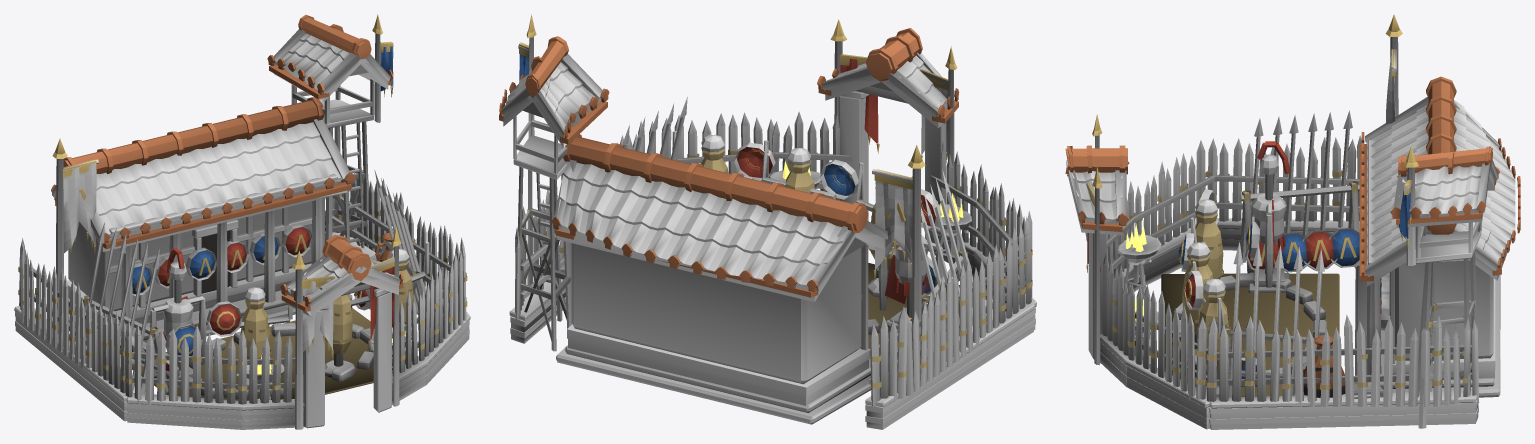
The model's file is spear-camp-l2.glb.
3 views of the same model, side by side, from view 1: azimuth 30°, elevation 25°; view 2: azimuth 150°, elevation 25°; view 3: azimuth 270°, elevation 25° (orthographic). The views are drawn at different scales.
Parts seen in each view (by area): view 1: spear-camp-l2; view 2: spear-camp-l2; view 3: spear-camp-l2.
Part boxes in pixels (left/top/right/bottom): spear-camp-l2: left=14, top=14, right=470, bottom=429; spear-camp-l2: left=499, top=14, right=1036, bottom=429; spear-camp-l2: left=1065, top=14, right=1520, bottom=429.
Size of the model in its own units: 1.55 by 1.07 by 1.55.
